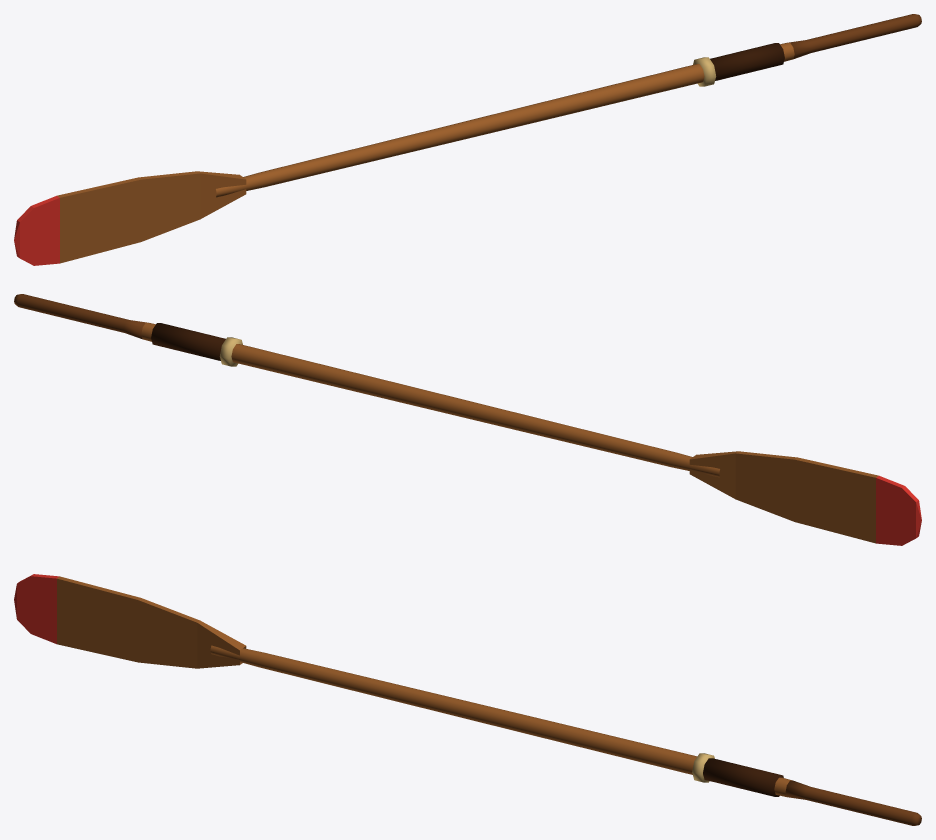
Rendered from rower-oar-port.glb.
3 renders of one model, top to bottom at view 1: azimuth 30°, elevation 25°; view 2: azimuth 150°, elevation 25°; view 3: azimuth 330°, elevation 25°, orthographic.
Visible parts, largest first — view 1: oar; view 2: oar; view 3: oar.
Boxes of the visible parts, <box> form: oar: <box>14,14,921,265</box>; oar: <box>14,294,921,545</box>; oar: <box>14,574,921,825</box>.
Size of the model in its own units: 2.45 by 0.17 by 0.07.
